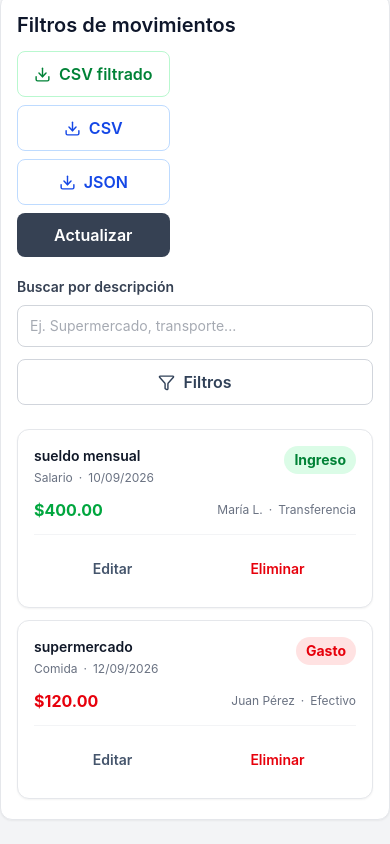
Scenario: Movimientos — vista de tarjetas (T12) › "Eliminar" desde la tarjeta abre la confirmación del modal
(page scrolled)
Click the button "Eliminar" below "supermercado" at coordinates (278, 760), box [199,738,356,782]
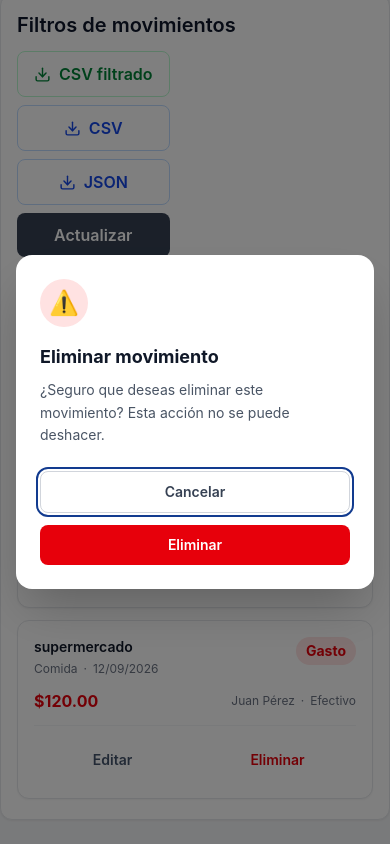
Expected: the heading "Eliminar movimiento" is shown, [40,346,219,367]
Expected: the button "Eliminar" is shown, [40,525,350,565]
Expected: the button "Cancelar" is shown, [40,471,350,513]
